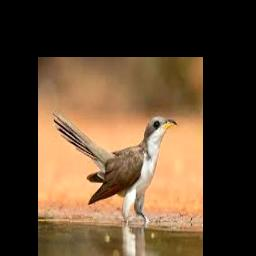Cuckoo: (53, 109, 177, 221)
